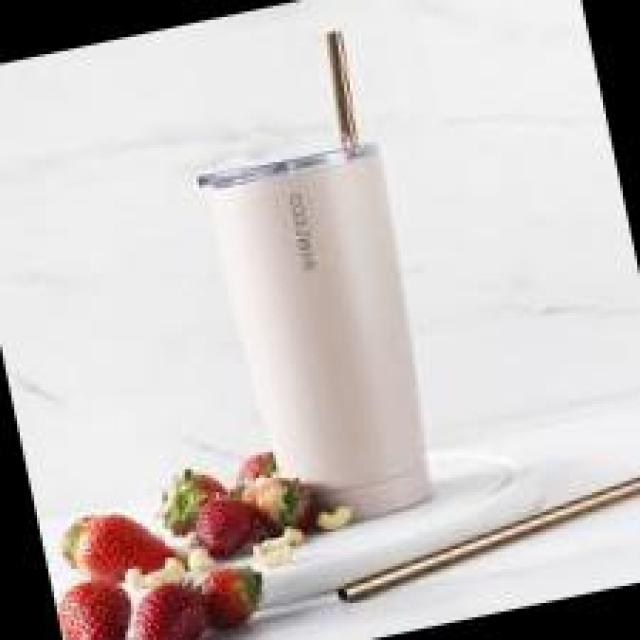bottle: (160, 14, 457, 535)
